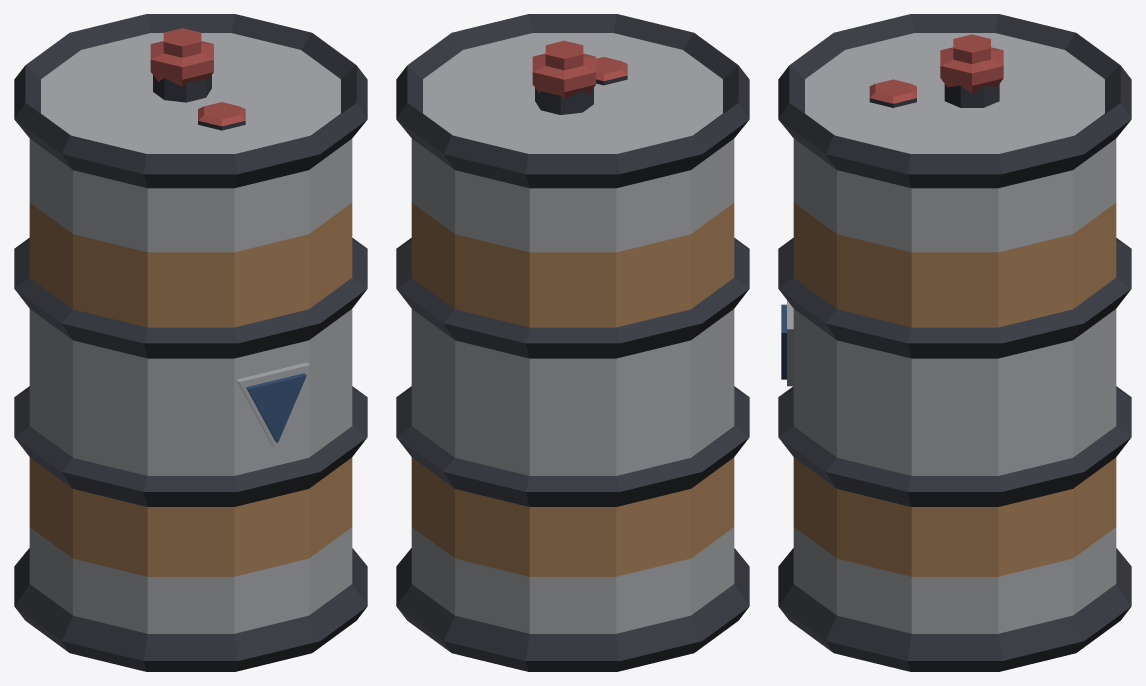
The model's file is fuel-drum-d65fa4.glb.
3 renders of one model, left to right at view 1: azimuth 30°, elevation 25°; view 2: azimuth 150°, elevation 25°; view 3: azimuth 270°, elevation 25°, orthographic.
Visible parts, largest first — view 1: drum, valve-cap-mesh; view 2: drum, valve-cap-mesh; view 3: drum, valve-cap-mesh.
Boxes of the visible parts, x1=… form: drum: x1=14, y1=14, x2=367, y2=671; valve-cap-mesh: x1=150, y1=28, x2=213, y2=86; drum: x1=396, y1=14, x2=749, y2=671; valve-cap-mesh: x1=532, y1=40, x2=595, y2=99; drum: x1=778, y1=14, x2=1131, y2=671; valve-cap-mesh: x1=940, y1=34, x2=1003, y2=93.
Bounding box in the file's own units: 0.6182 × 1.08 × 0.6182.
